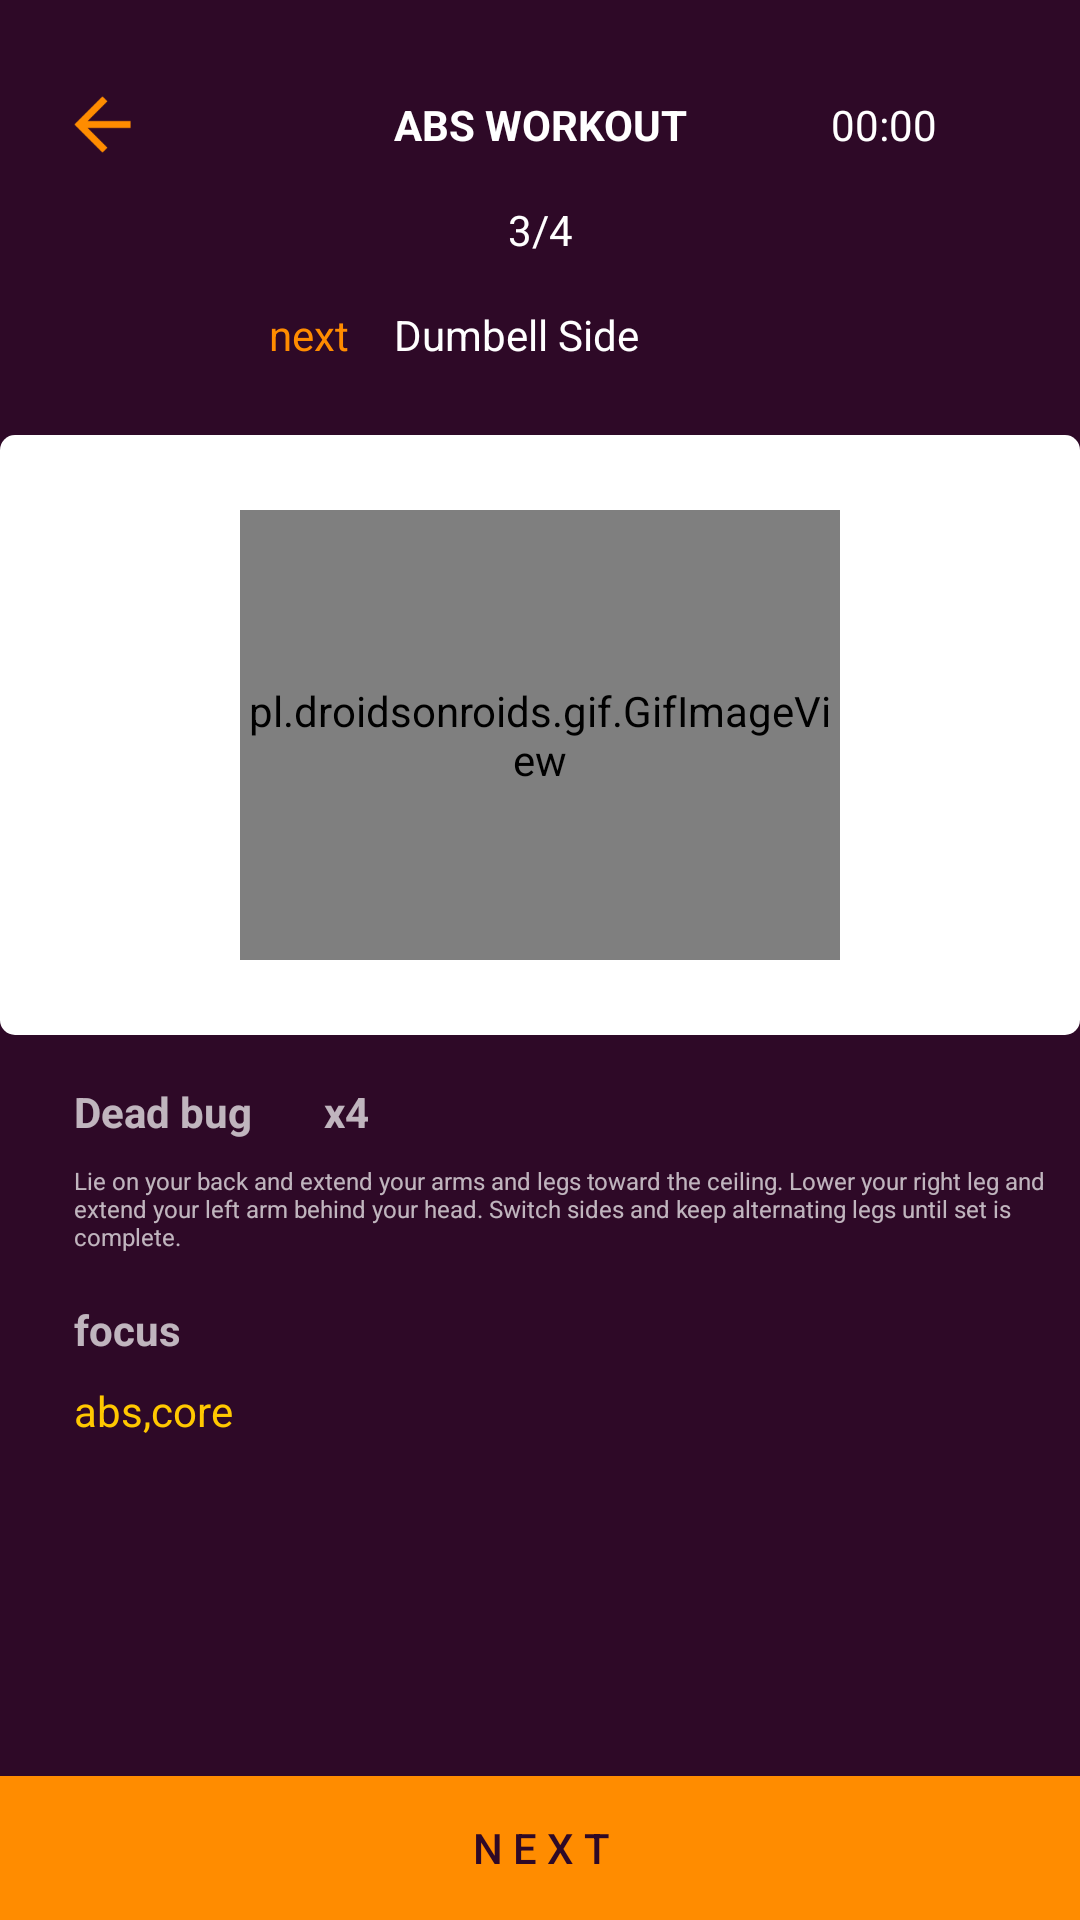

Icon bounding boxes for this 1080*1920 phone screenshot, format detection(x1, y1, x2, y2):
back: detection(74, 96, 131, 153)
